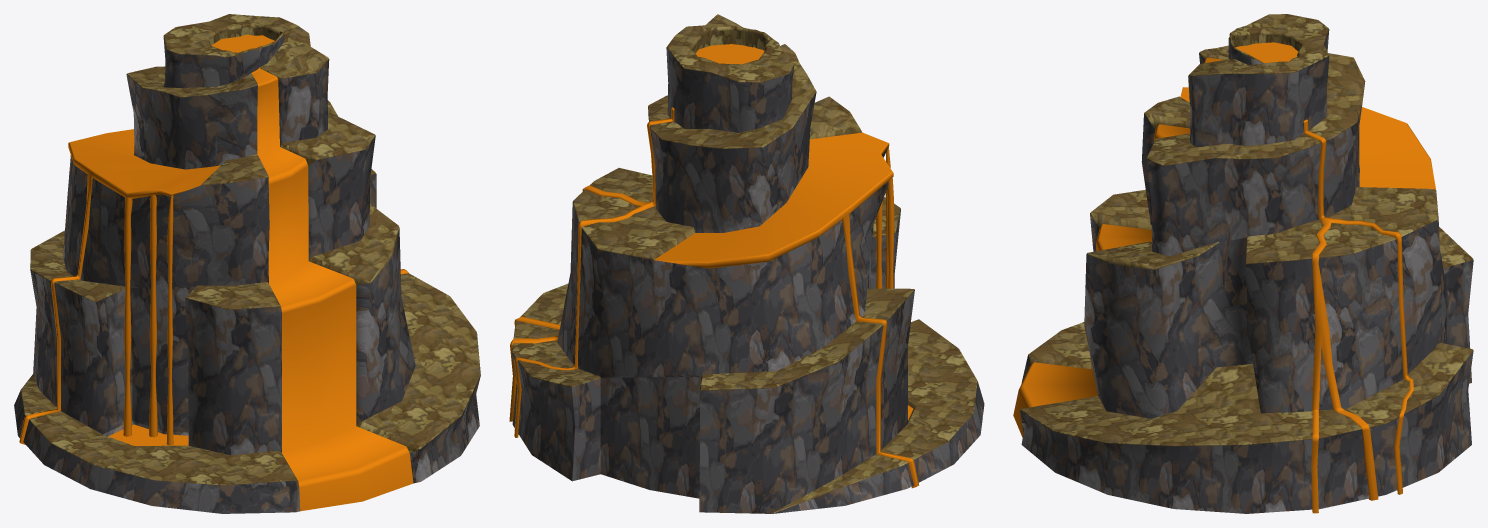
Rendered from volcano.fbx.
3 views of the same model, side by side, from view 1: azimuth 30°, elevation 25°; view 2: azimuth 150°, elevation 25°; view 3: azimuth 270°, elevation 25° (orthographic).
Parts seen in each view (by area): view 1: polySurface2, polySurface3, polySurface1, pCube3, pCube4, pCube6, polySurface6, pCube5; view 2: polySurface2, polySurface1, pCube2, pCube5, pCube3; view 3: polySurface2, pCube2, polySurface1, polySurface3, pCube5.
Boxes of the visible parts, bbox=[...] form: polySurface2: bbox=[14, 14, 480, 513]; polySurface3: bbox=[251, 67, 413, 511]; polySurface1: bbox=[19, 129, 220, 444]; pCube3: bbox=[123, 197, 132, 436]; pCube4: bbox=[149, 194, 157, 437]; pCube6: bbox=[166, 195, 173, 445]; polySurface6: bbox=[108, 424, 188, 445]; pCube5: bbox=[211, 34, 274, 52]; polySurface2: bbox=[511, 14, 984, 513]; polySurface1: bbox=[654, 132, 918, 488]; pCube2: bbox=[509, 107, 674, 437]; pCube5: bbox=[696, 44, 764, 64]; pCube3: bbox=[887, 177, 894, 288]; polySurface2: bbox=[1020, 14, 1473, 513]; pCube2: bbox=[1303, 119, 1413, 513]; polySurface1: bbox=[1180, 87, 1435, 189]; polySurface3: bbox=[1013, 57, 1229, 437]; pCube5: bbox=[1235, 42, 1298, 62].
Size of the model in its own units: 2.07 by 1.83 by 2.
